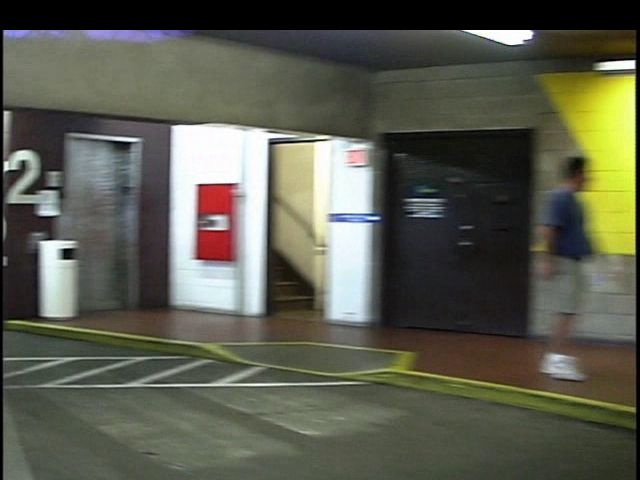person: (487, 150, 603, 385)
